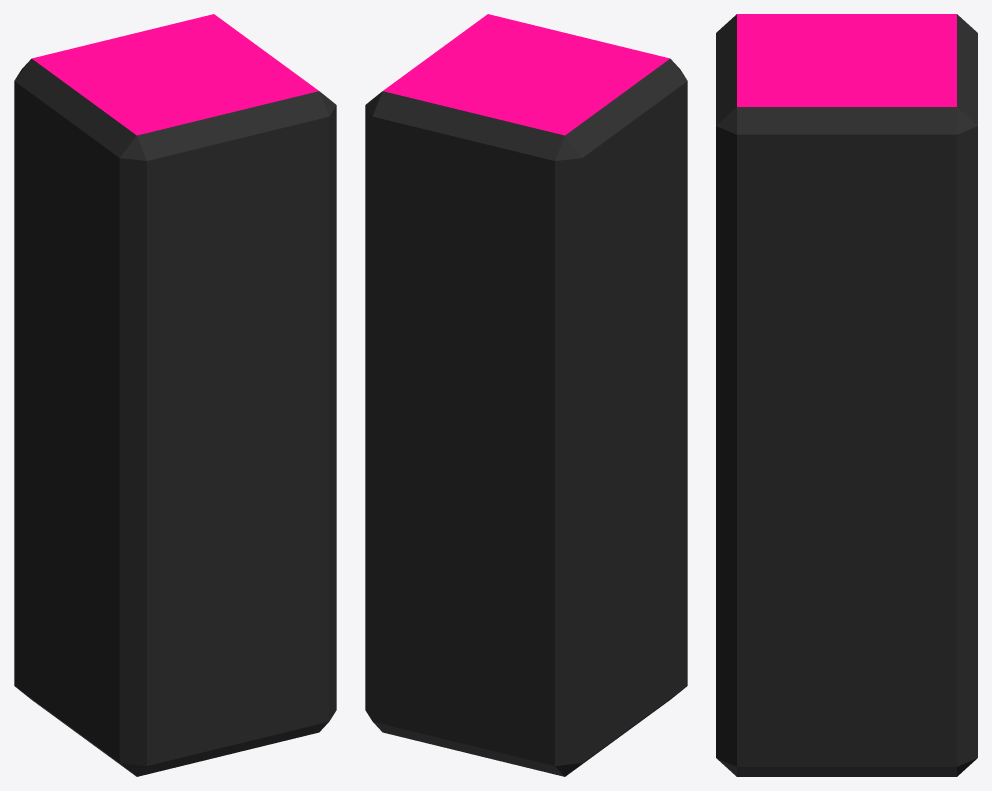
The model's file is cubemodel.fbx.
3 renders of one model, left to right at view 1: azimuth 30°, elevation 25°; view 2: azimuth 150°, elevation 25°; view 3: azimuth 270°, elevation 25°, orthographic. The views are drawn at different scales.
Parts seen in each view (by area): view 1: Cube; view 2: Cube; view 3: Cube.
Boxes of the visible parts, <box> form: Cube: <box>14,14,336,776</box>; Cube: <box>365,14,687,776</box>; Cube: <box>716,14,977,776</box>.
Size of the model in its own units: 200 by 565 by 200.
